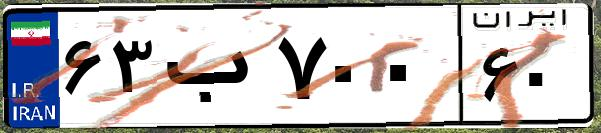0: (385, 28, 445, 110), (330, 28, 385, 110), (525, 38, 570, 115)
3: (110, 28, 158, 98)
6: (57, 26, 110, 100), (475, 38, 525, 113)
7: (270, 28, 330, 110)
ب: (158, 20, 270, 120)
